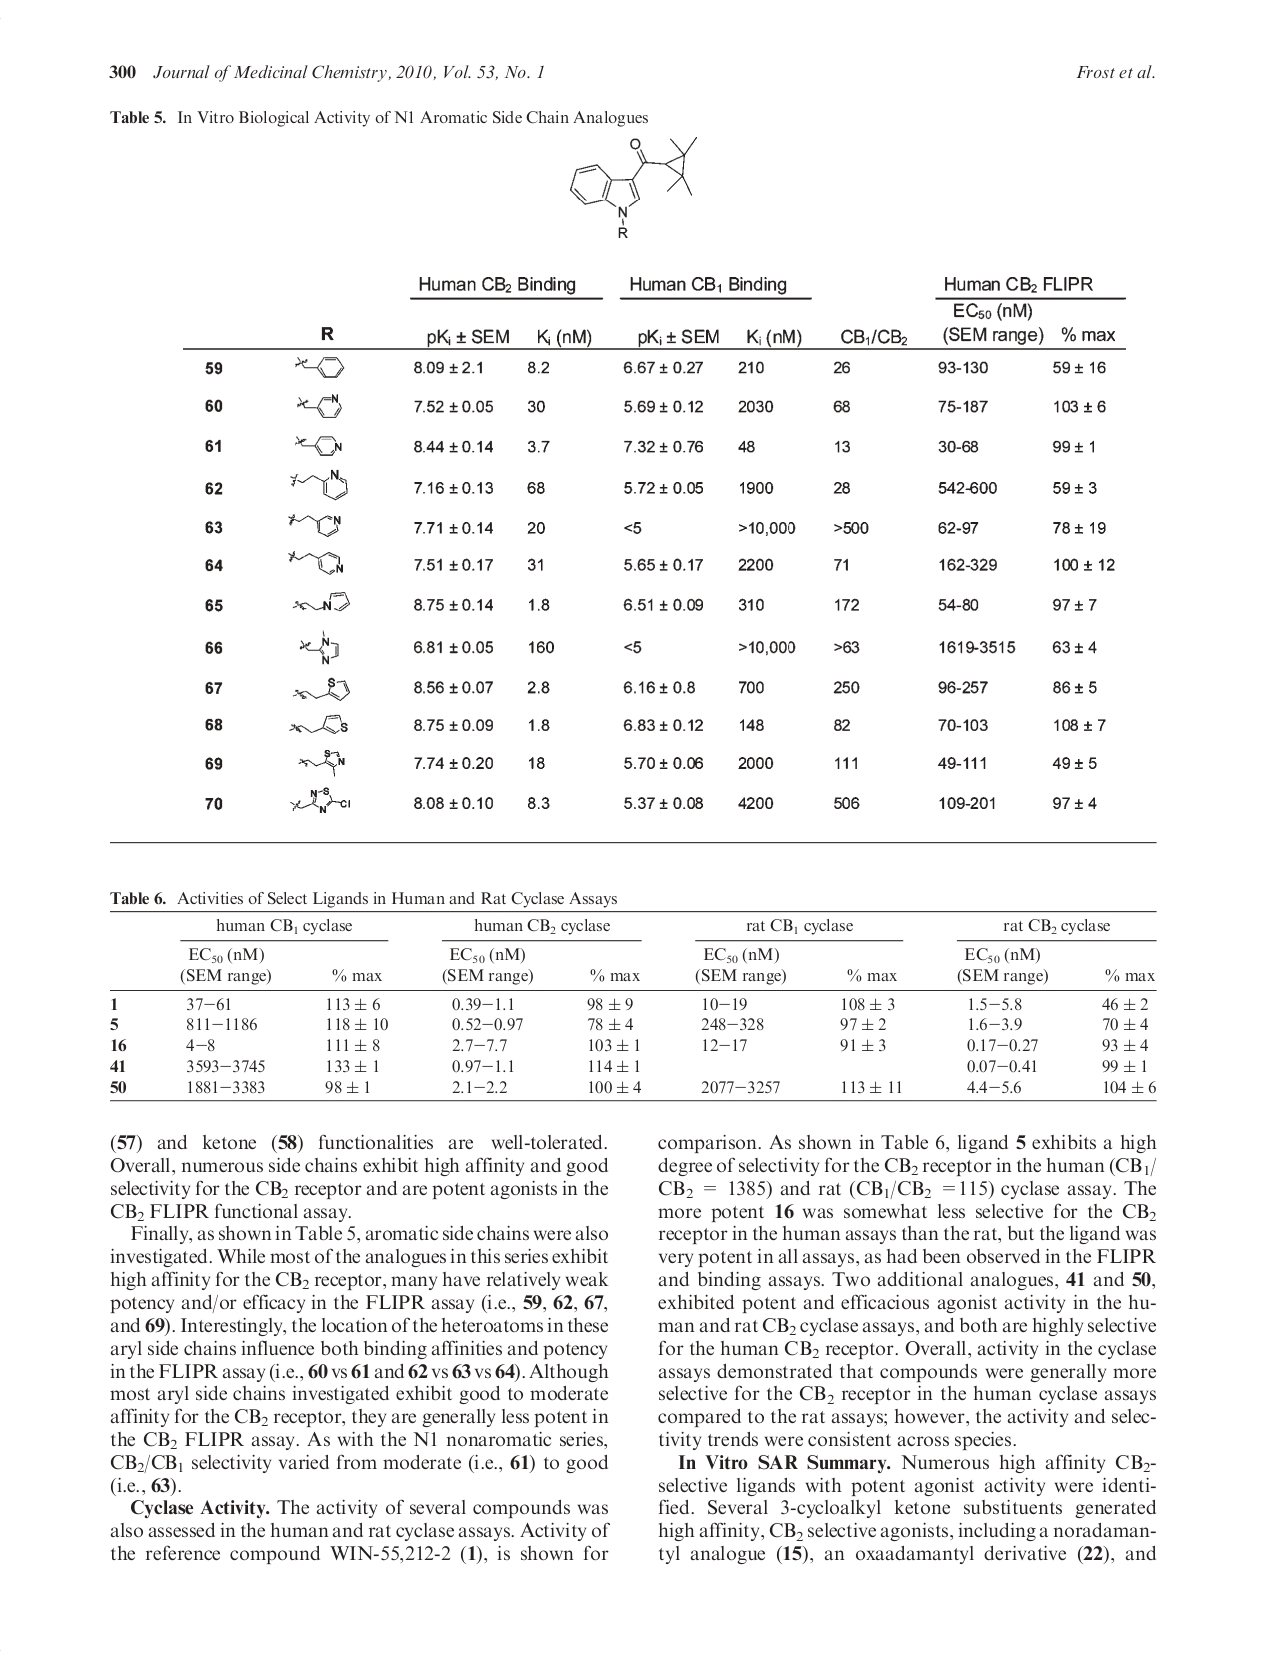exist_molecular: (568, 132, 699, 239), (289, 468, 348, 501), (289, 786, 351, 814), (299, 628, 340, 666), (287, 549, 344, 576), (293, 677, 352, 702), (285, 513, 342, 539), (293, 589, 351, 613), (298, 749, 346, 778), (289, 713, 350, 735), (293, 354, 344, 379), (293, 434, 343, 457), (297, 394, 342, 419)
